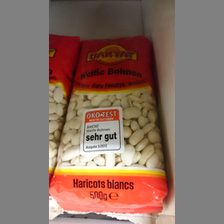beans: (52, 32, 169, 216)
